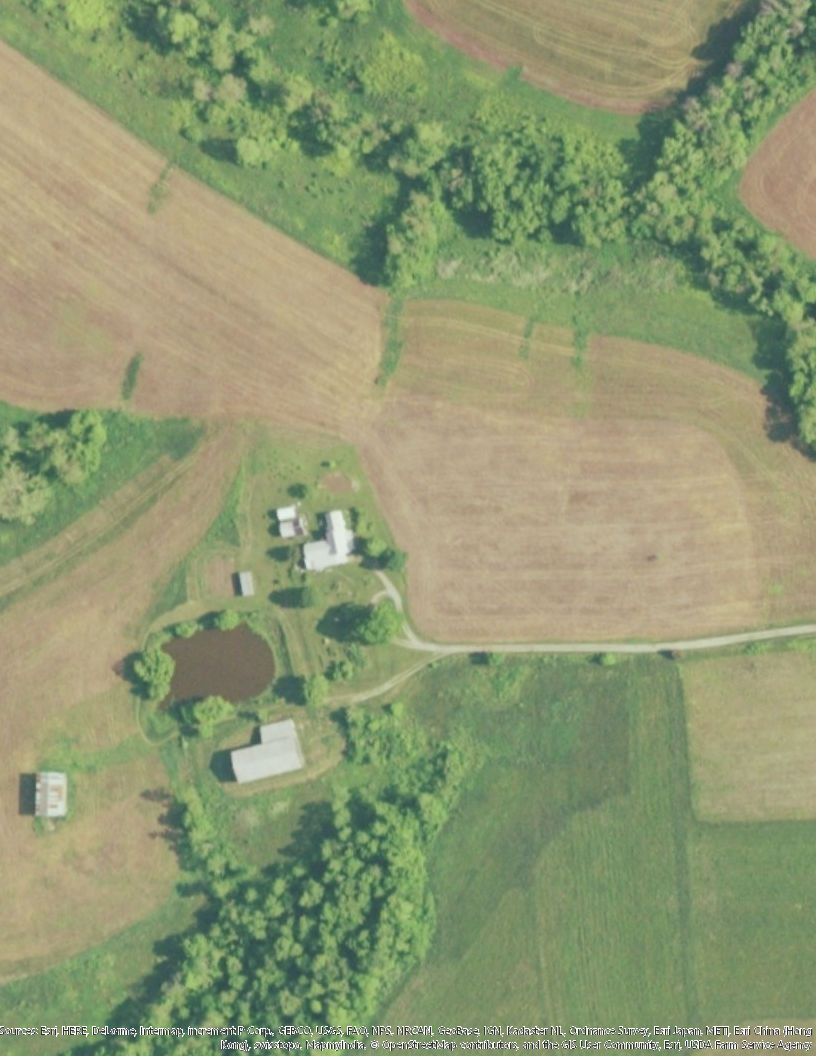cafo: (226, 712, 311, 790)
